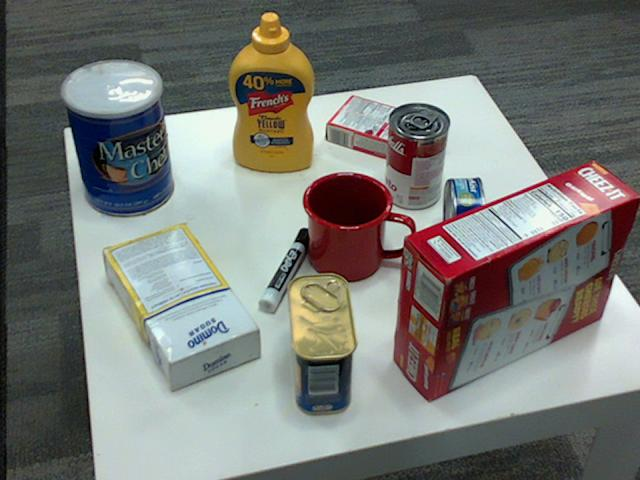cracker_box: (392, 159, 638, 398)
gelatin_box: (328, 94, 414, 157)
large_marker: (256, 229, 313, 317)
master_chef_can: (59, 60, 172, 217)
mug: (301, 169, 412, 278)
mustard_bottle: (228, 13, 314, 171)
potted_meat_can: (287, 274, 358, 414)
sugar_box: (100, 220, 258, 385)
tomato_soup_can: (383, 103, 448, 210)
tuna_fish_can: (442, 177, 484, 257)
